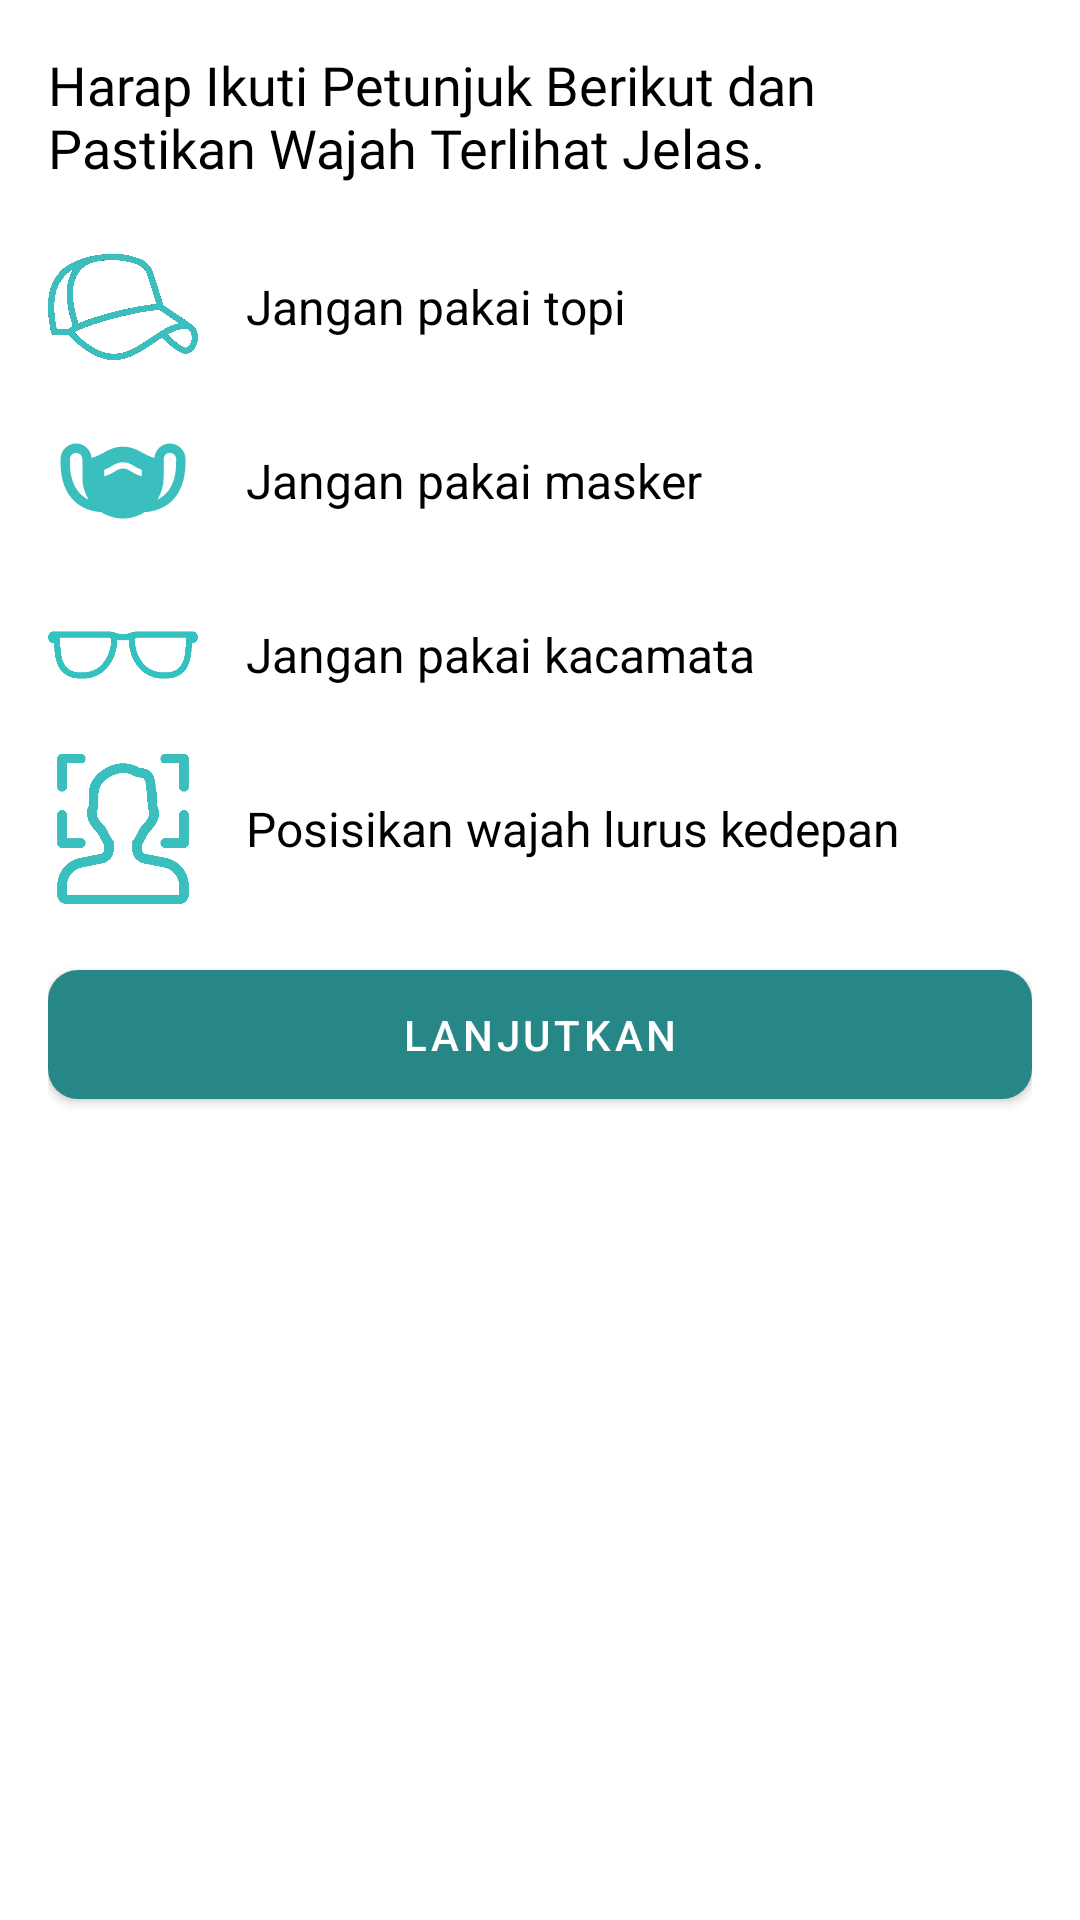

Icons on this 1080 x 1920 Android screen, each with its box as (x1, y1, x2, y2):
face front: (57, 754, 189, 904)
